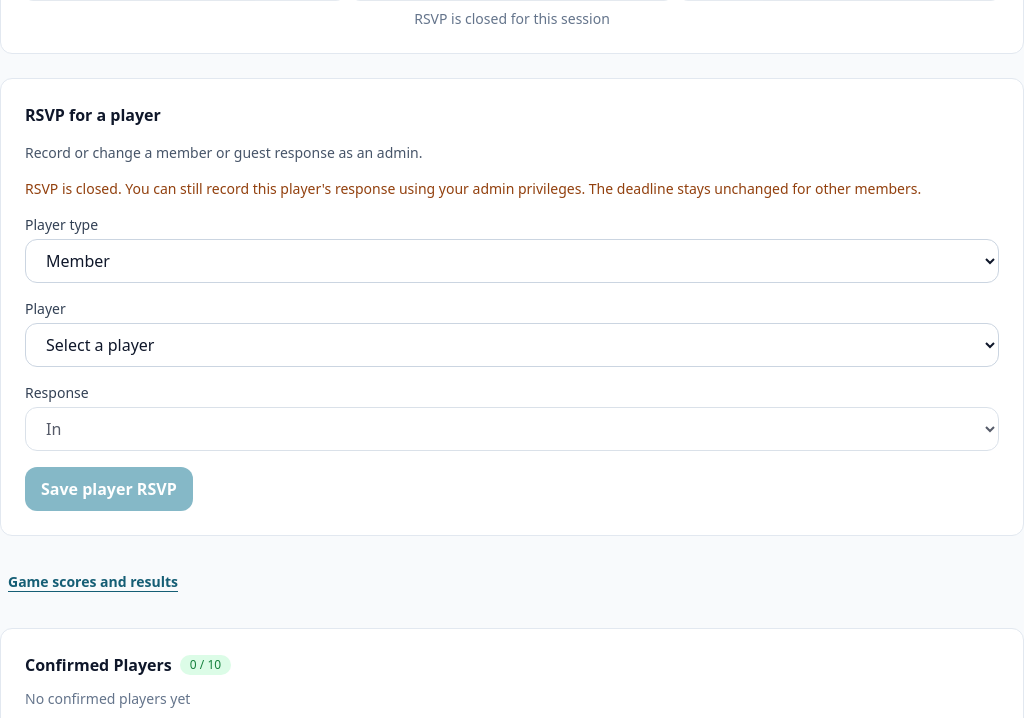
it: admin player RSVPs › saves a player RSVP with deadline passed = true and refreshes the roster
(page scrolled)
Select "Ace" in the dropdown labelled "Player" at (512, 345), box [25,323,999,367]
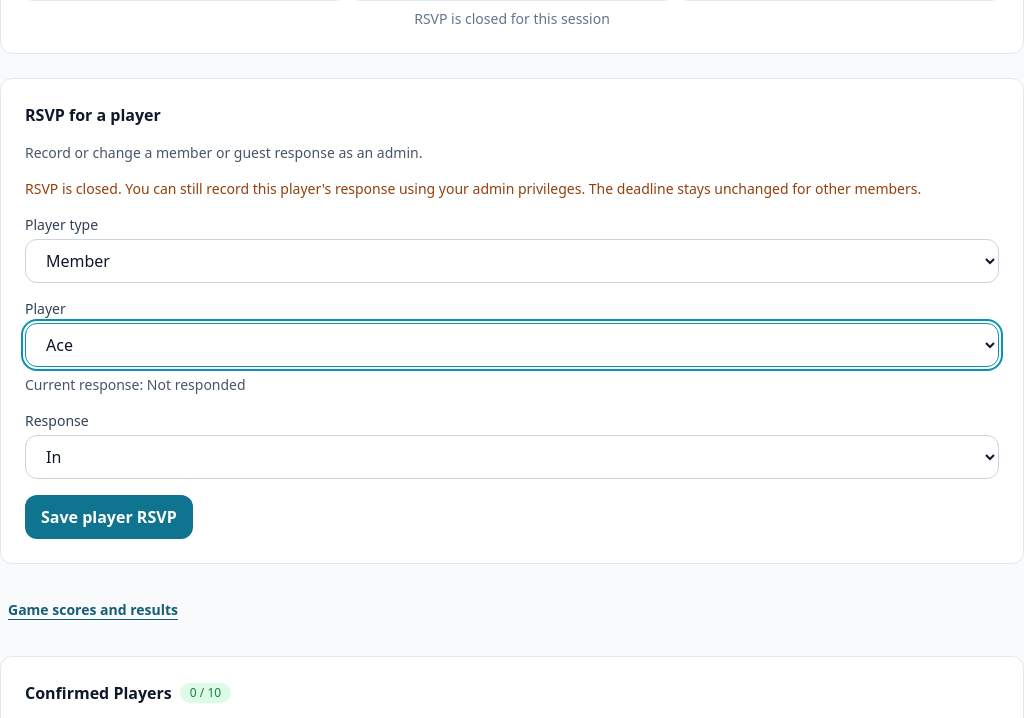
Click the button "Save player RSVP" at (109, 517), box [25,495,193,539]
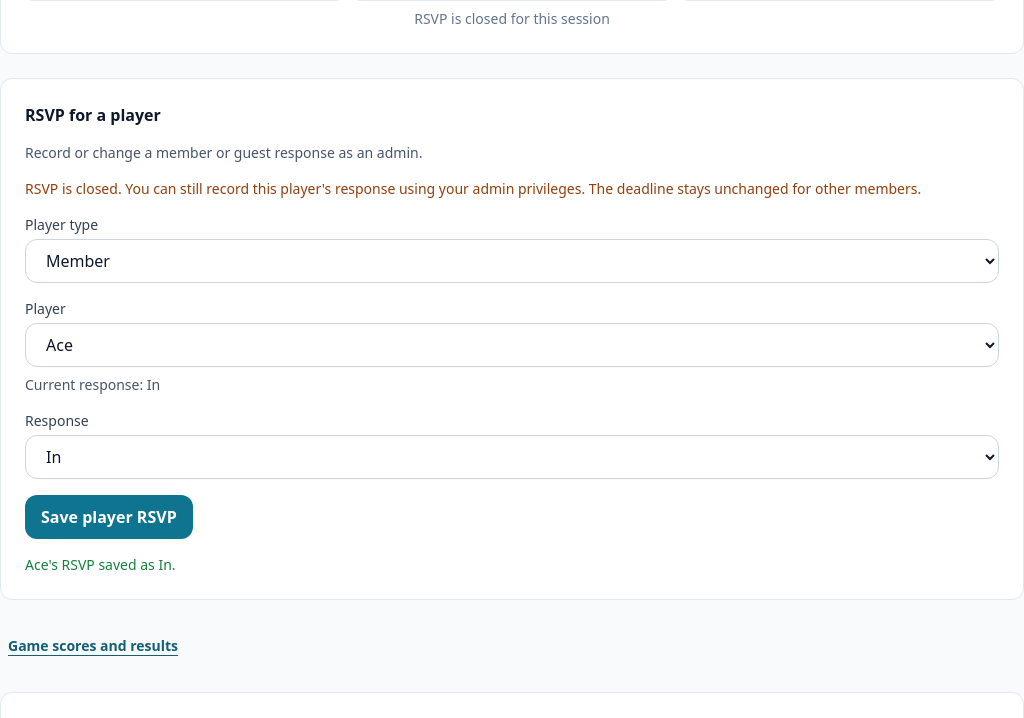
Check: the text "deadline stays unchanged" is shown, box [25,179,921,198]
Check: the text "Ace's RSVP saved as In." is shown, box [25,555,176,574]
Check: the text "Current response: In" is shown, box [25,375,160,394]
